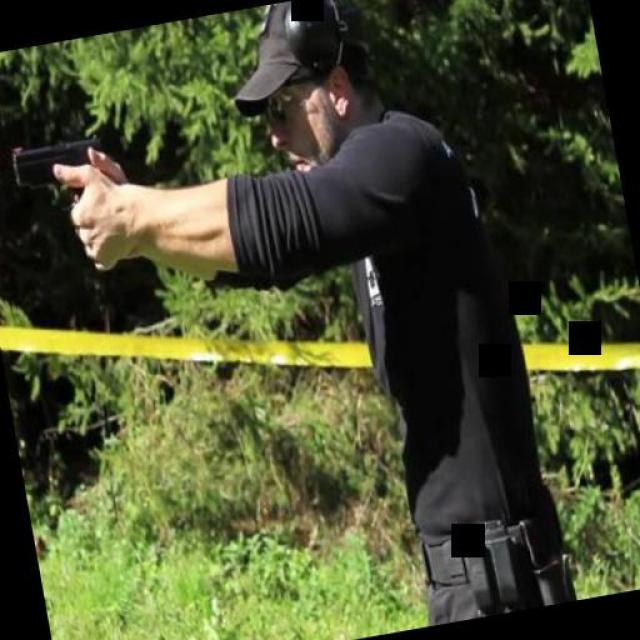gun: (5, 126, 143, 274)
